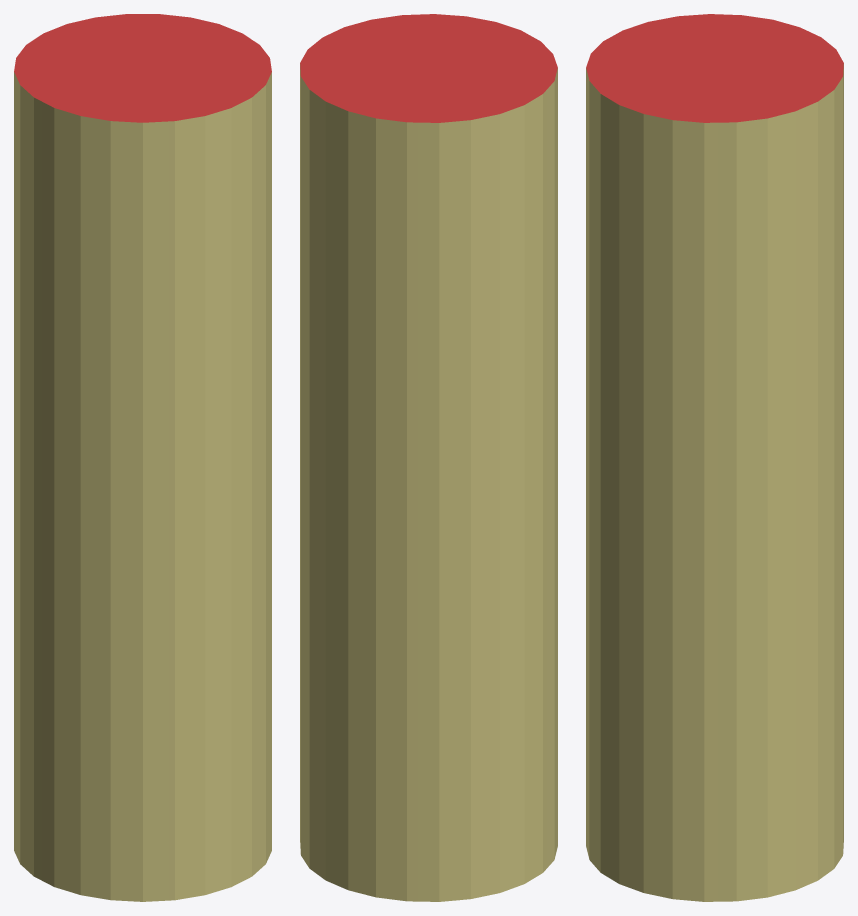
The picture shows the model from 3 angles, left to right: view 1: azimuth 30°, elevation 25°; view 2: azimuth 150°, elevation 25°; view 3: azimuth 270°, elevation 25°; orthographic projection.
Bounding box in the file's own units: 2.82 × 2.82 × 9.41.
